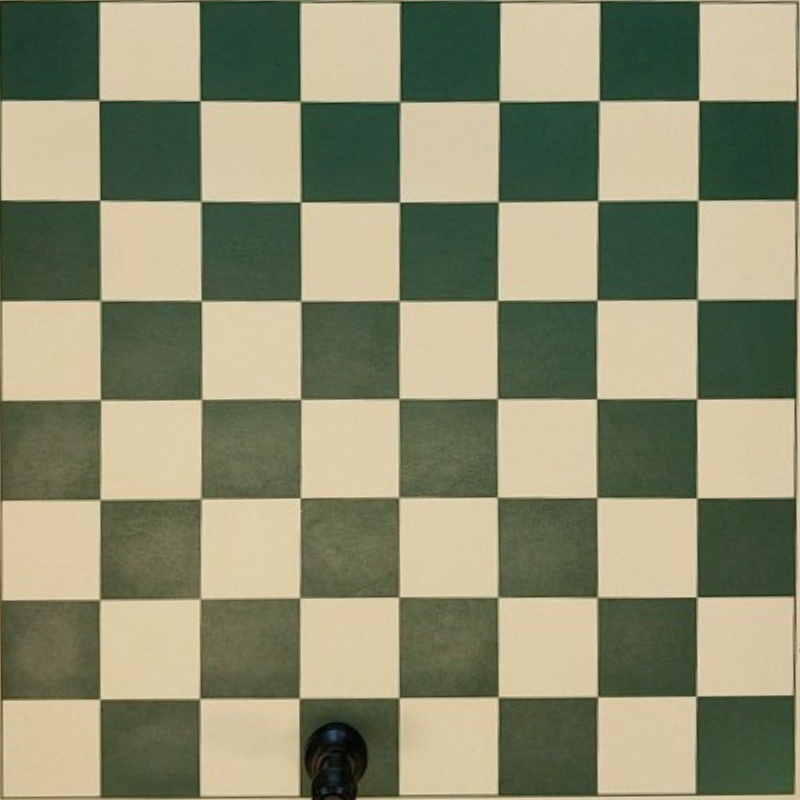black-queen: (305, 721, 369, 799)
